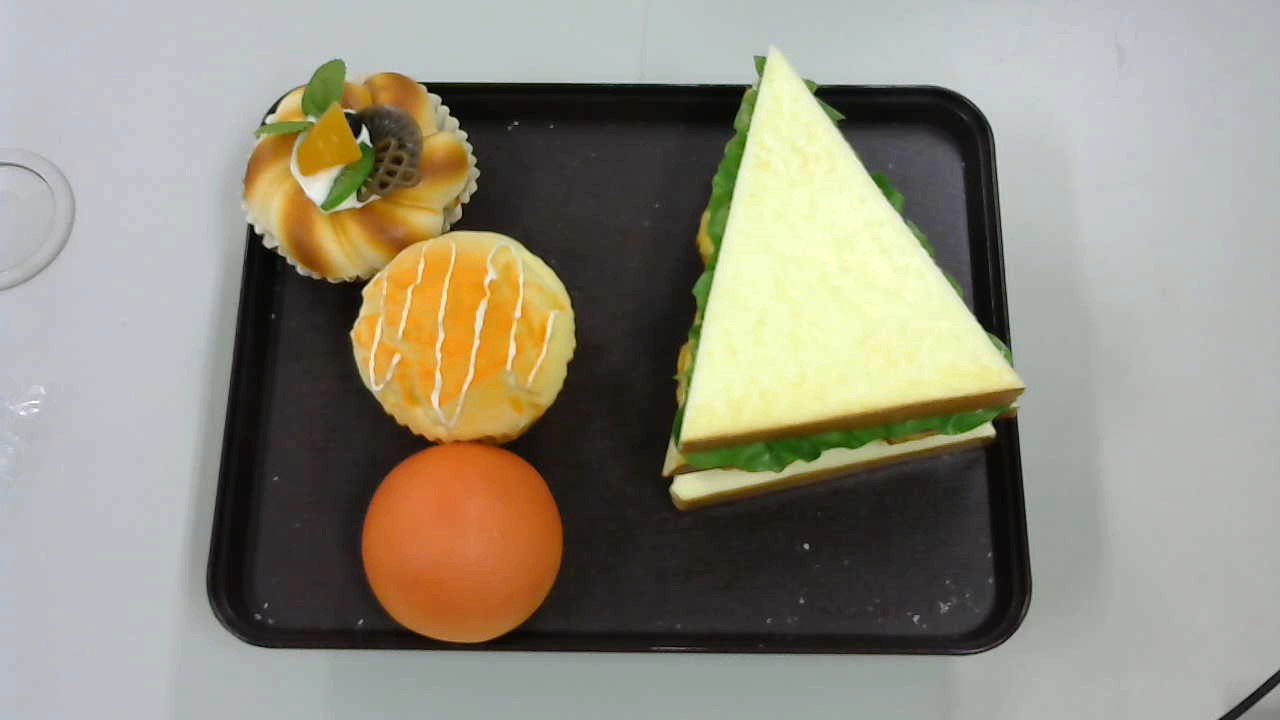bun: (362, 445, 562, 646)
cupcake: (348, 229, 577, 442)
fruit tart: (243, 60, 483, 285)
sandwich: (663, 44, 1025, 510)
